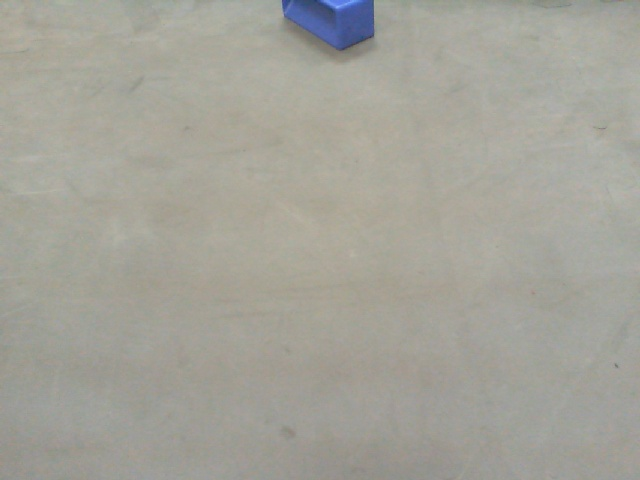BlueSample: (282, 1, 377, 52)
